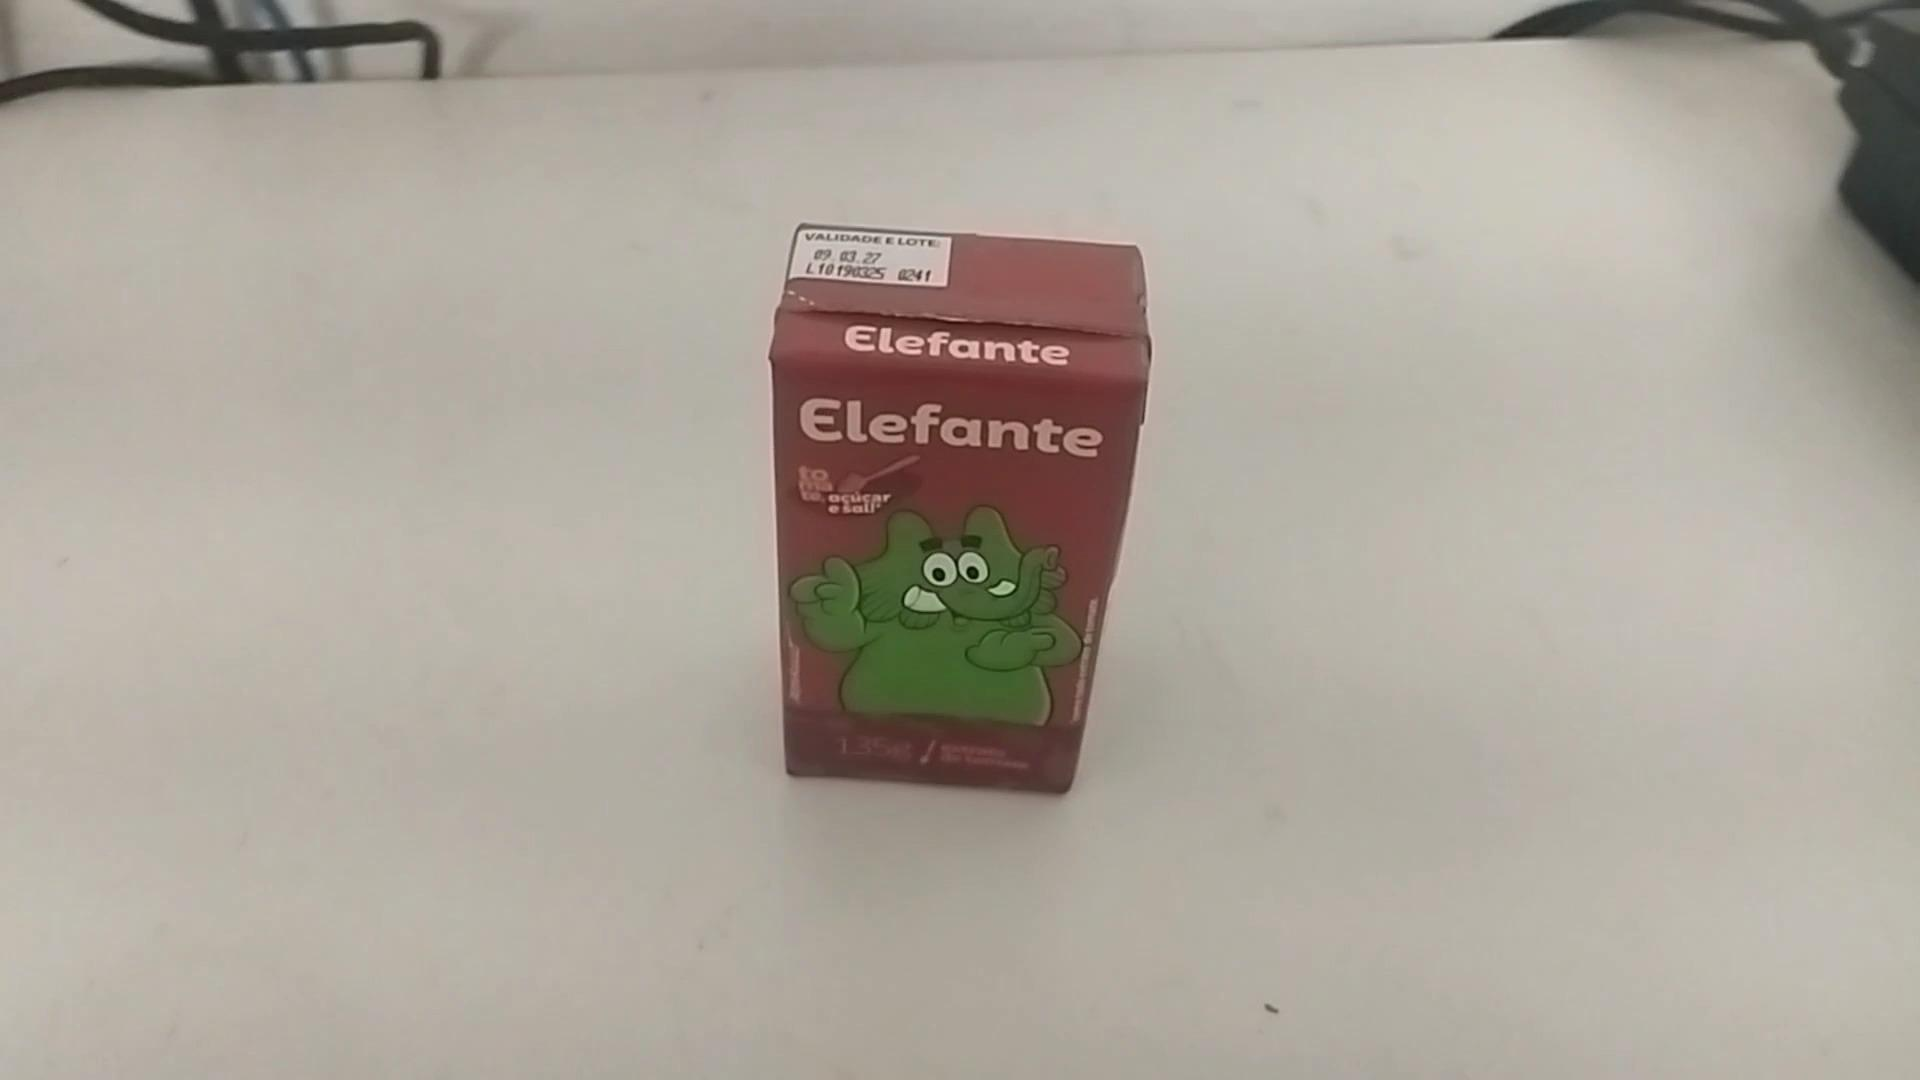tomate: (760, 216, 1164, 796)
